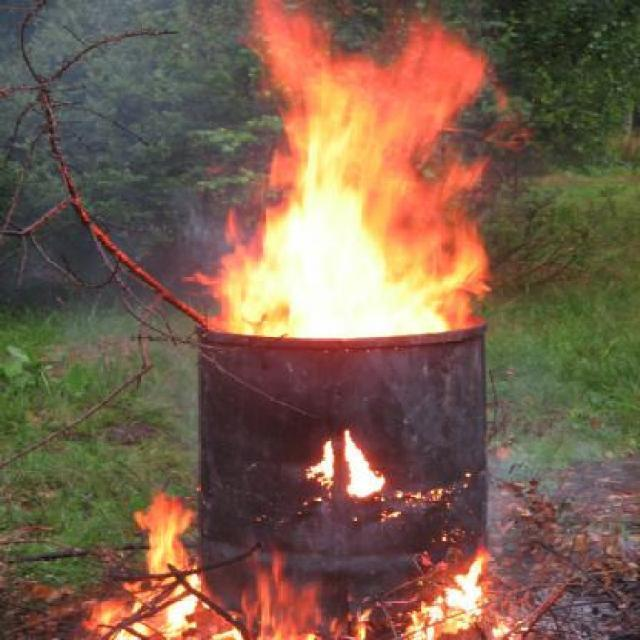fire: (219, 74, 450, 337), (127, 490, 200, 581), (439, 553, 483, 616)
